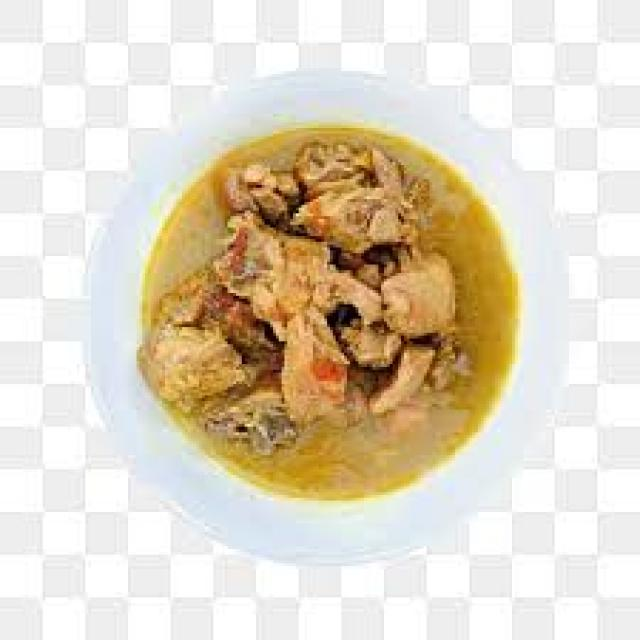Frango: (140, 125, 520, 501)
